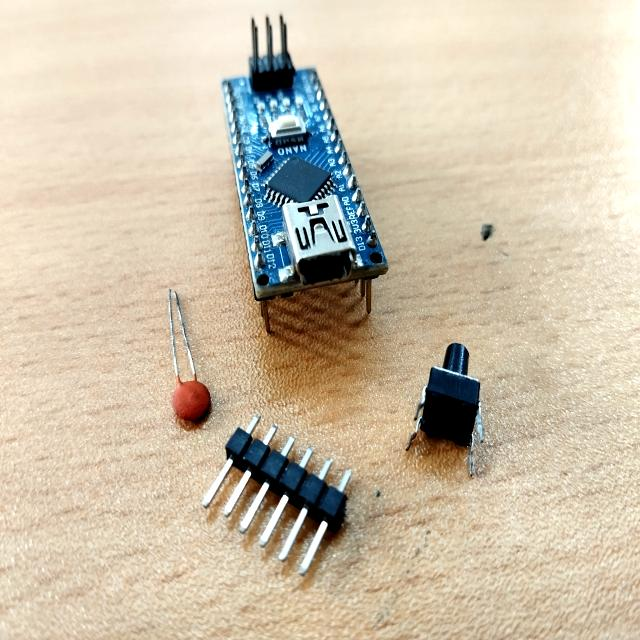capacitor: (171, 380, 211, 431)
